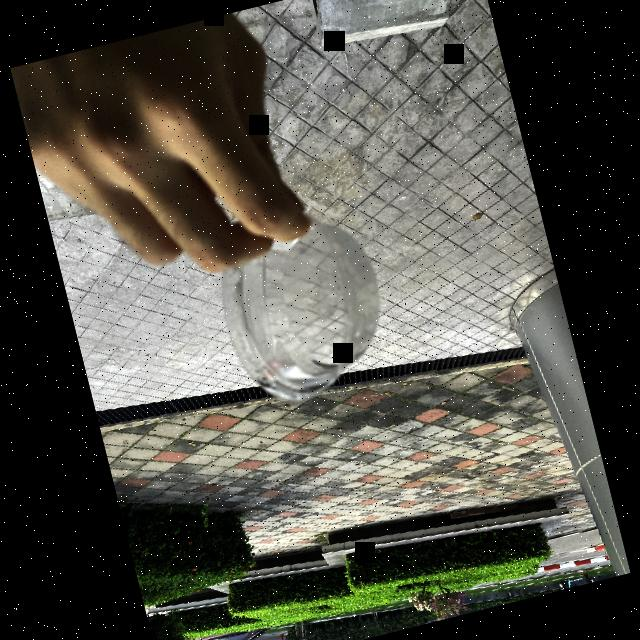plastic_cup_lid: (196, 183, 408, 414)
